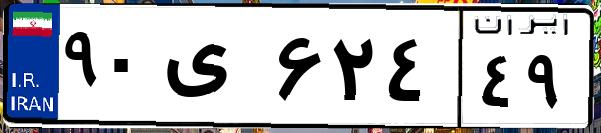0: (110, 28, 158, 98)
2: (330, 28, 385, 110)
4: (385, 28, 445, 110), (475, 38, 525, 113)
6: (270, 28, 330, 110)
9: (57, 26, 110, 100), (525, 38, 570, 115)
ی: (158, 20, 270, 120)
